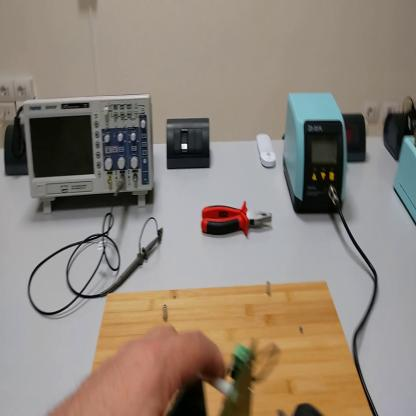electric screwdriver: (265, 403, 324, 416)
hand: (55, 325, 225, 416)
low voltage board: (221, 339, 281, 416)
oscilloscope: (21, 93, 155, 216)
oscilloscope probe tip: (101, 240, 160, 302)
pliers: (200, 200, 275, 241)
socket: (383, 104, 415, 162), (344, 111, 369, 165), (4, 124, 29, 177)
welder base: (394, 136, 415, 225)
welder station: (283, 93, 350, 215)
working area: (93, 283, 373, 414)
